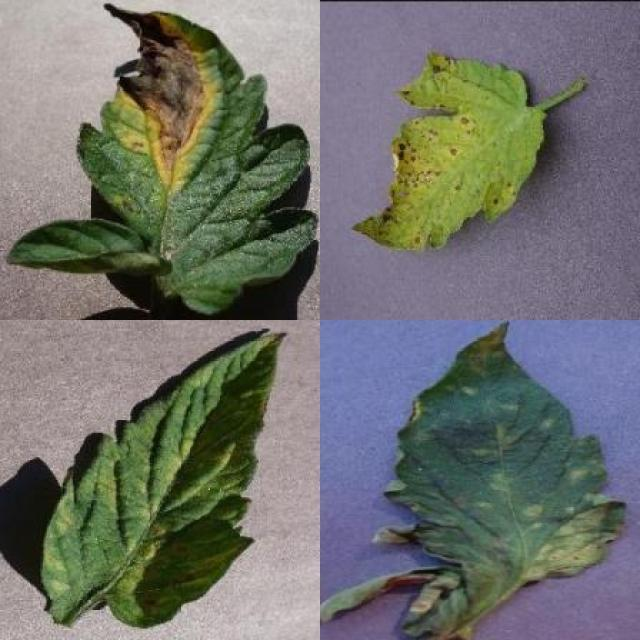Early Blight: (74, 5, 320, 321)
Leaf Mold: (374, 320, 629, 640), (42, 332, 287, 627)
Septoria: (350, 47, 547, 247)
